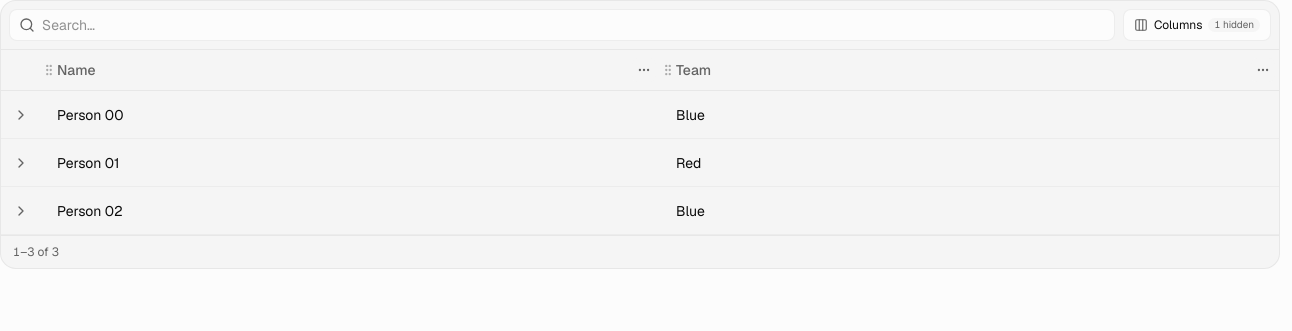
Scenario: DataTable › expands a row and hides a column
Click the button named "Expand Person 00".
click(21, 114)  # box [7,100,35,128]
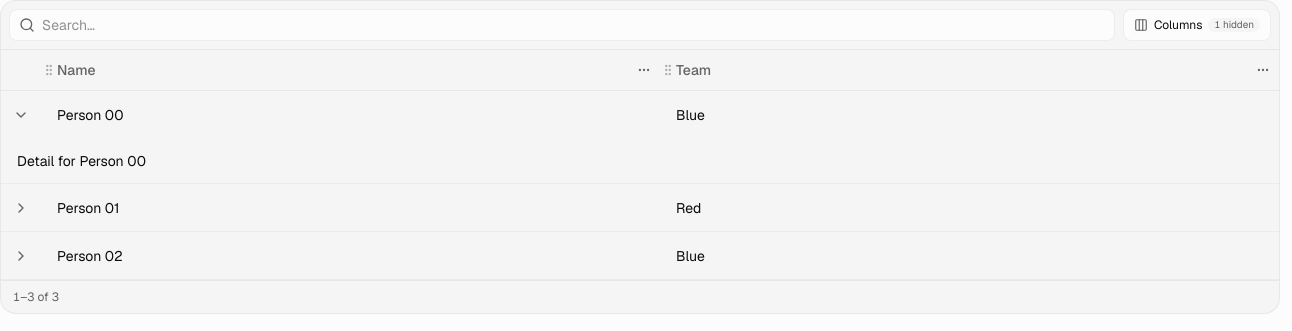
Expected: the button named "Expand Person 00" is expanded, [7,100,35,128]
Expected: the text "Detail for Person 00" is shown, [17,152,146,170]
